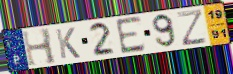2: (88, 21, 117, 58)
9: (151, 13, 178, 49)
E: (114, 15, 148, 56)
H: (20, 27, 59, 69)
K: (54, 26, 82, 60)
Z: (175, 8, 209, 48)
